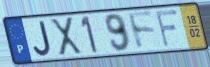1: (80, 15, 101, 55)
9: (104, 12, 134, 54)
F: (126, 10, 158, 52), (154, 8, 180, 49)
J: (33, 19, 54, 58)
X: (48, 16, 84, 58)
